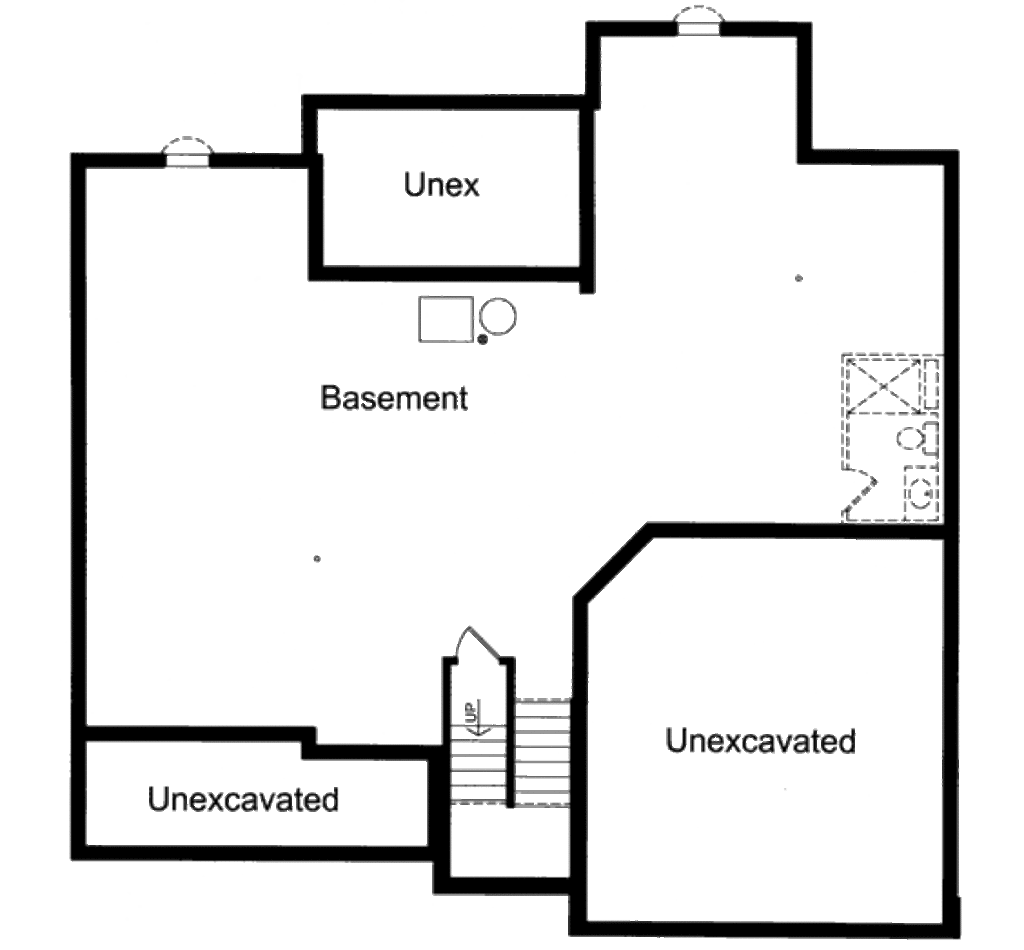door: (443, 614, 501, 663), (844, 466, 876, 505)
large_sink: (888, 421, 943, 462)
small_sink: (892, 462, 944, 527)
stairs: (452, 667, 569, 815)
